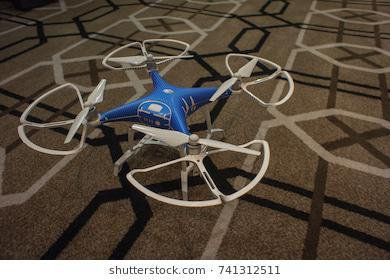drone: (16, 38, 295, 208)
